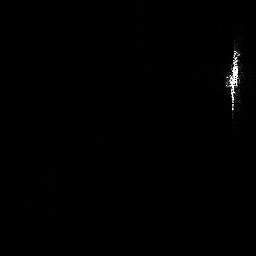ship: (224, 39, 241, 118)
